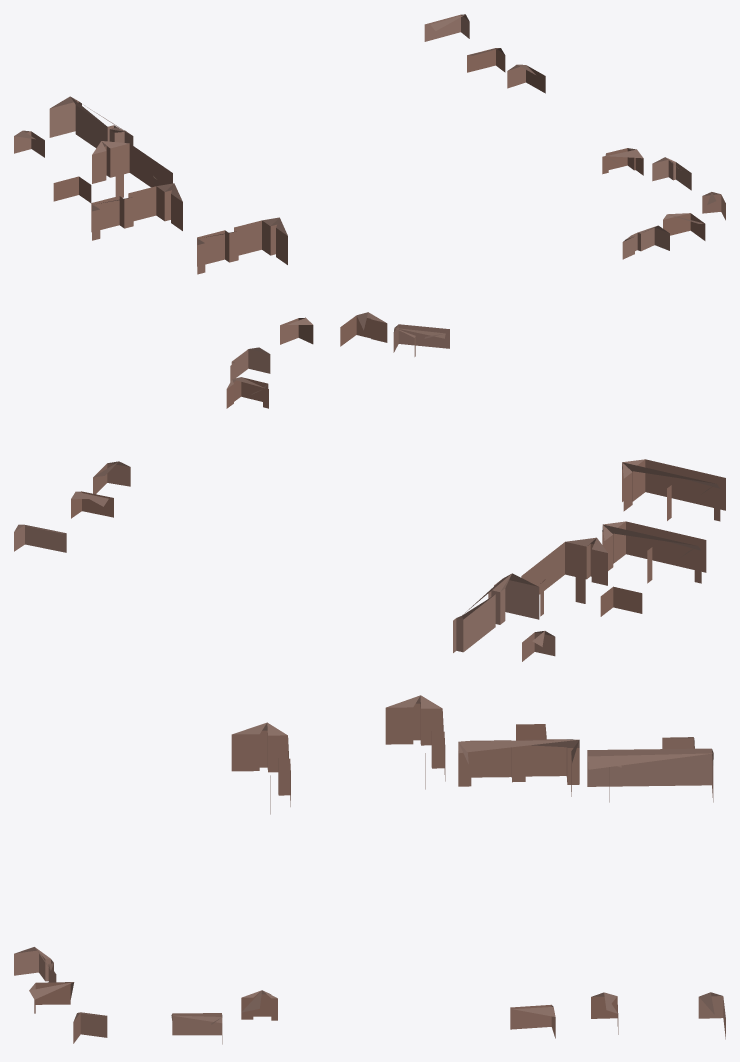
Rendered from c_1644_17836_buildings_residential.glb.
3 renders of one model, top to bottom at view 1: azimuth 30°, elevation 25°; view 2: azimuth 150°, elevation 25°; view 3: azimuth 270°, elevation 25°, orthographic. The views are drawn at different scales.
Parts seen in each view (by area): view 1: geometry_0; view 2: geometry_0; view 3: geometry_0.
Part boxes in pixels (x1,y1,x2,y2): geometry_0: [14, 14, 725, 274]; geometry_0: [14, 312, 725, 661]; geometry_0: [14, 695, 725, 1044].
Bounding box in the file's own units: 268 × 18.36 × 263.
